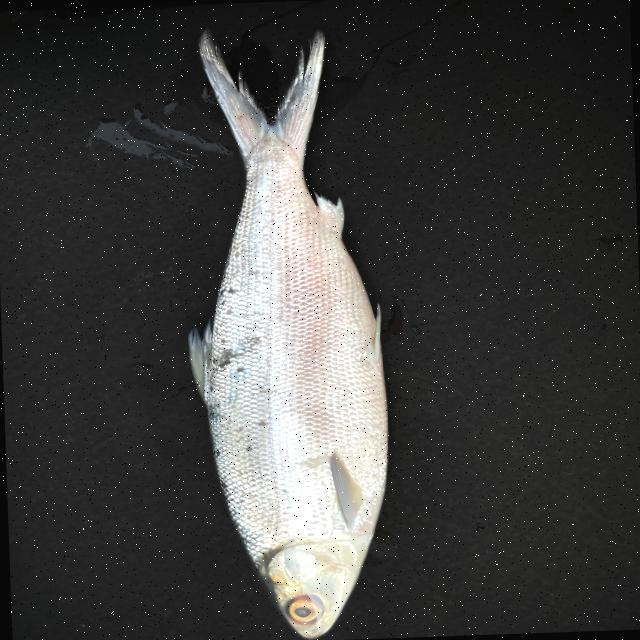1040 g: (175, 21, 394, 640)
